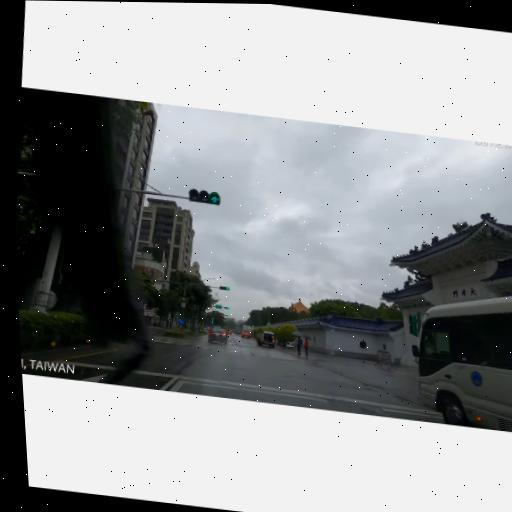Car: (404, 270, 512, 432), (254, 326, 278, 348), (206, 326, 229, 345), (239, 322, 255, 338)
